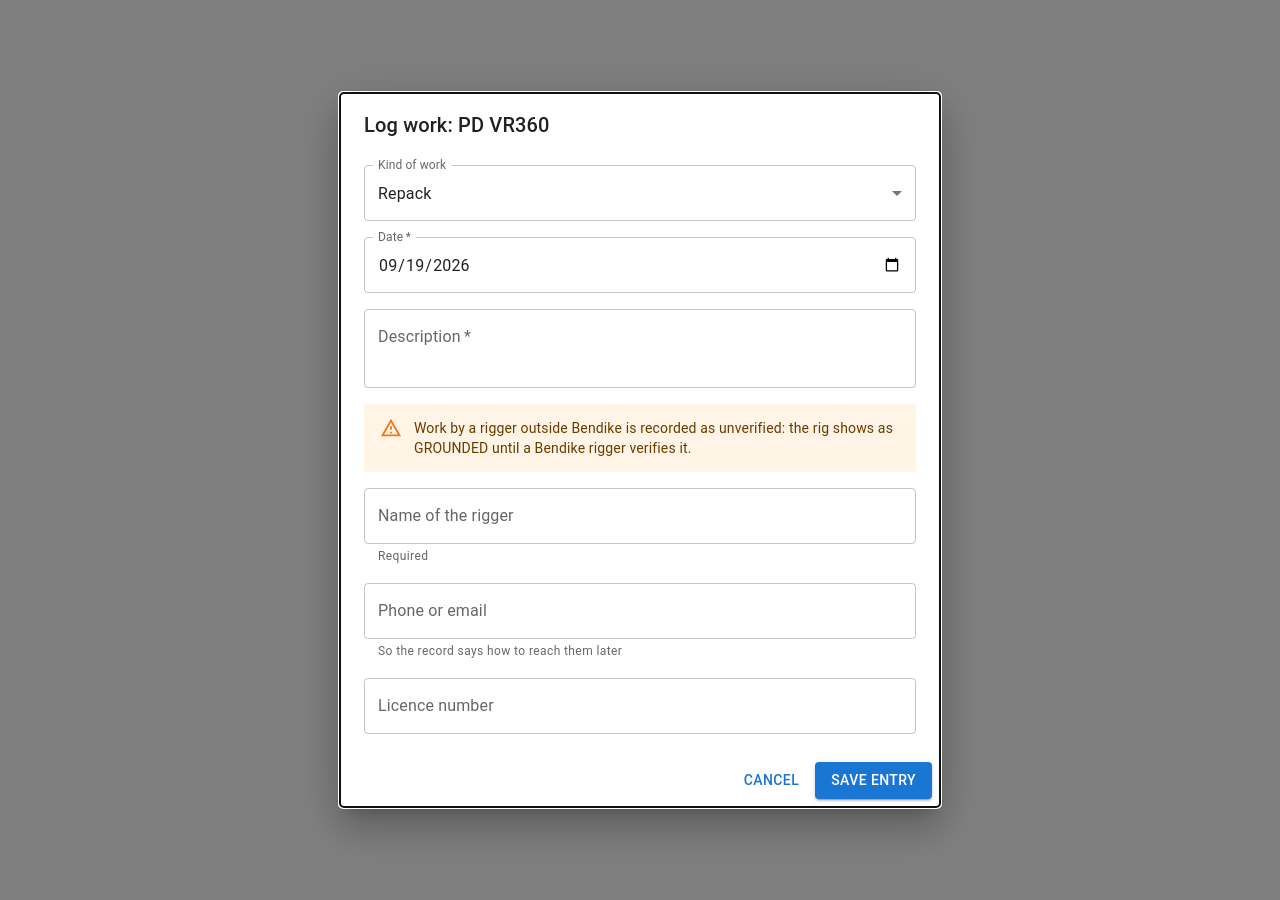
EntryDialog for an owner › a repack asks who did it and requires an outside rigger name
The width and height of the screenshot is (1280, 900).
Step 1. Type "Repack" into the text box labelled "Description *" → (640, 349), box top-left (378, 326), bottom-right (902, 372)
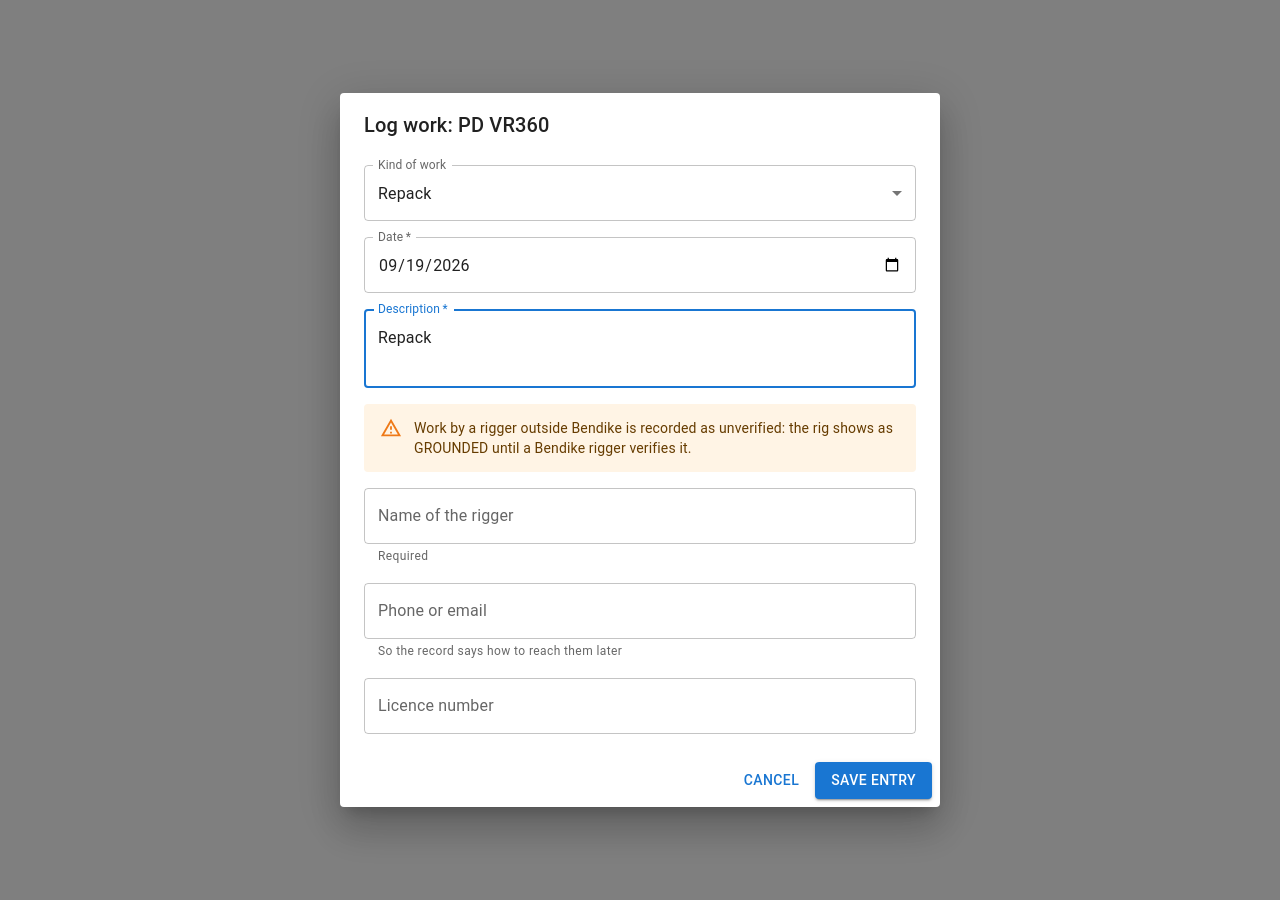
Step 2. Click the button "Save entry" → (874, 780), box top-left (815, 762), bottom-right (932, 799)
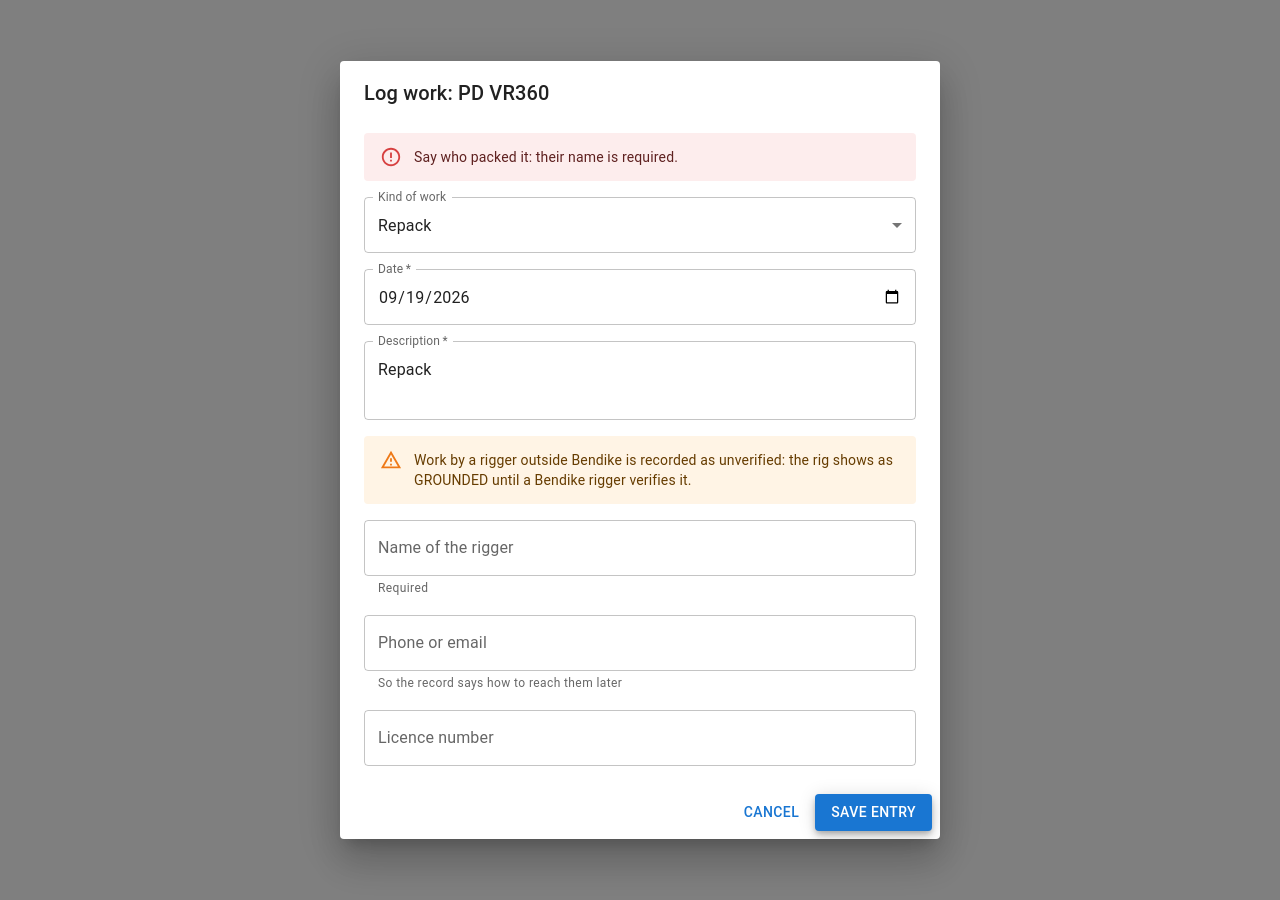
Result: the text "Say who packed it: their name is required." is shown at top-left (414, 149), bottom-right (678, 165)
